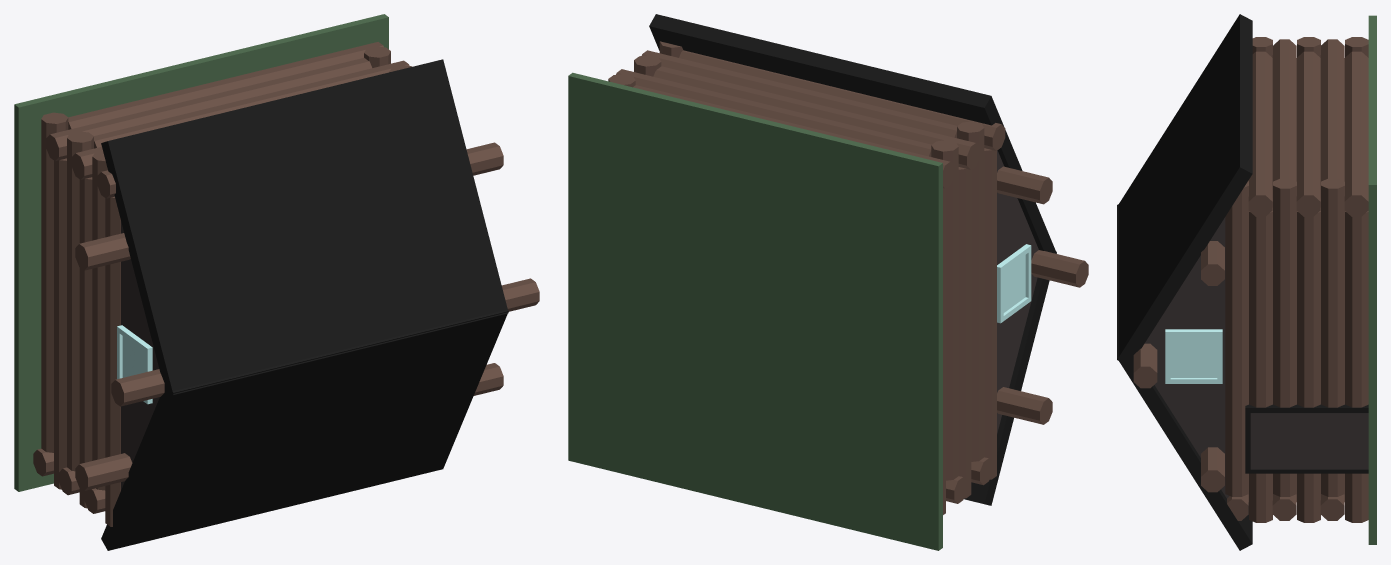
The model's file is house.glb.
3 renders of one model, left to right at view 1: azimuth 30°, elevation 25°; view 2: azimuth 150°, elevation 25°; view 3: azimuth 270°, elevation 25°, orthographic. The views are drawn at different scales.
Visible parts, largest first — view 1: Log Cabin; view 2: Log Cabin; view 3: Log Cabin.
Part boxes in pixels (x1=…): Log Cabin: x1=14, y1=14, x2=539, y2=550; Log Cabin: x1=568, y1=14, x2=1088, y2=550; Log Cabin: x1=1117, y1=14, x2=1376, y2=550.
Size of the model in its own units: 0.8318 by 0.784 by 0.4812.
